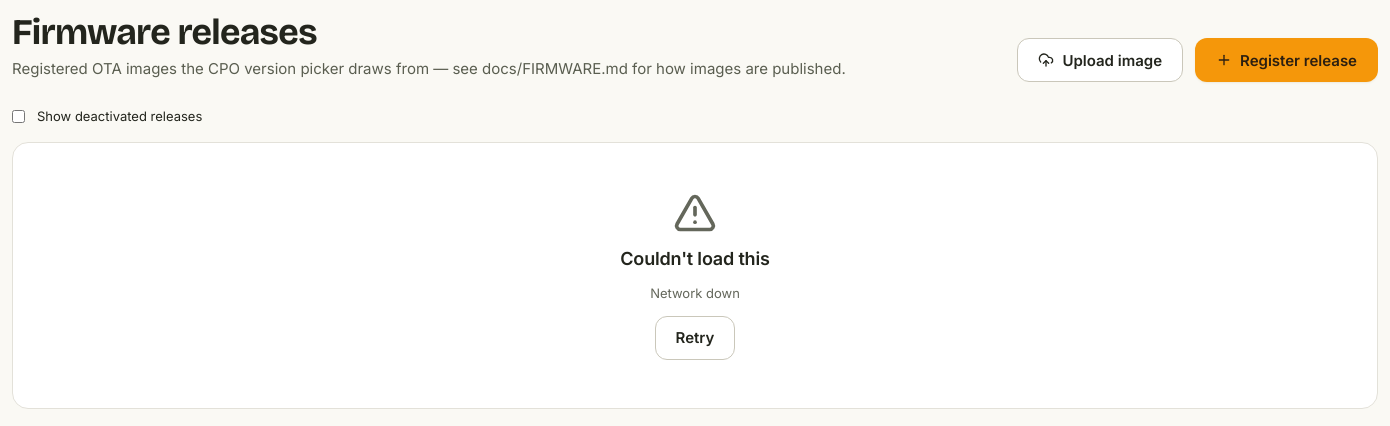
Test: AdminFirmwareReleases › shows a retryable ErrorState on fetch failure
Expected: the heading "Couldn't load this" is shown, [620, 247, 770, 271]
Click the button "Retry" at (695, 338), box [655, 316, 735, 360]
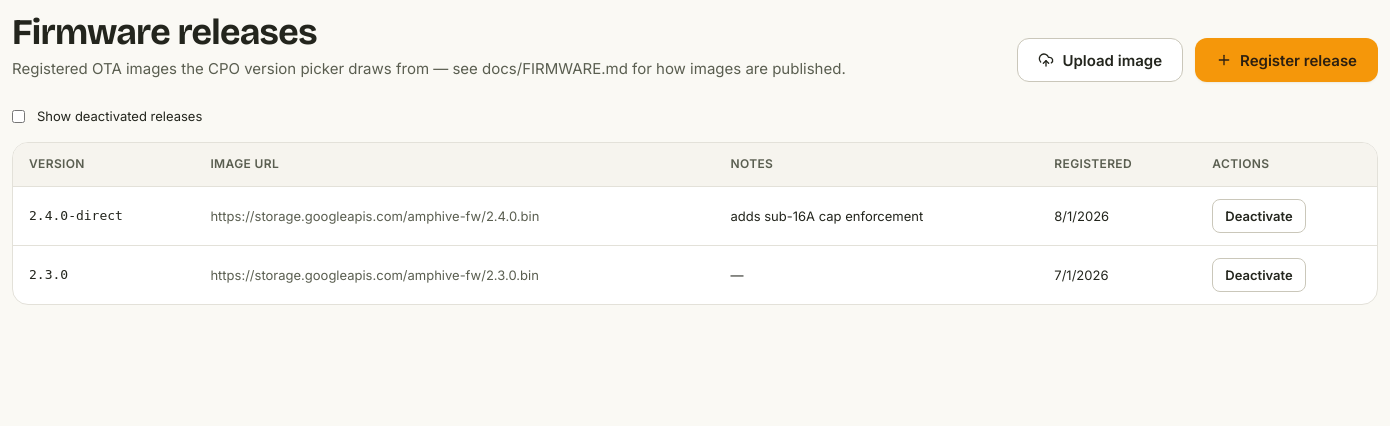
Result: the text "2.4.0-direct" is shown at [29, 206, 123, 226]
